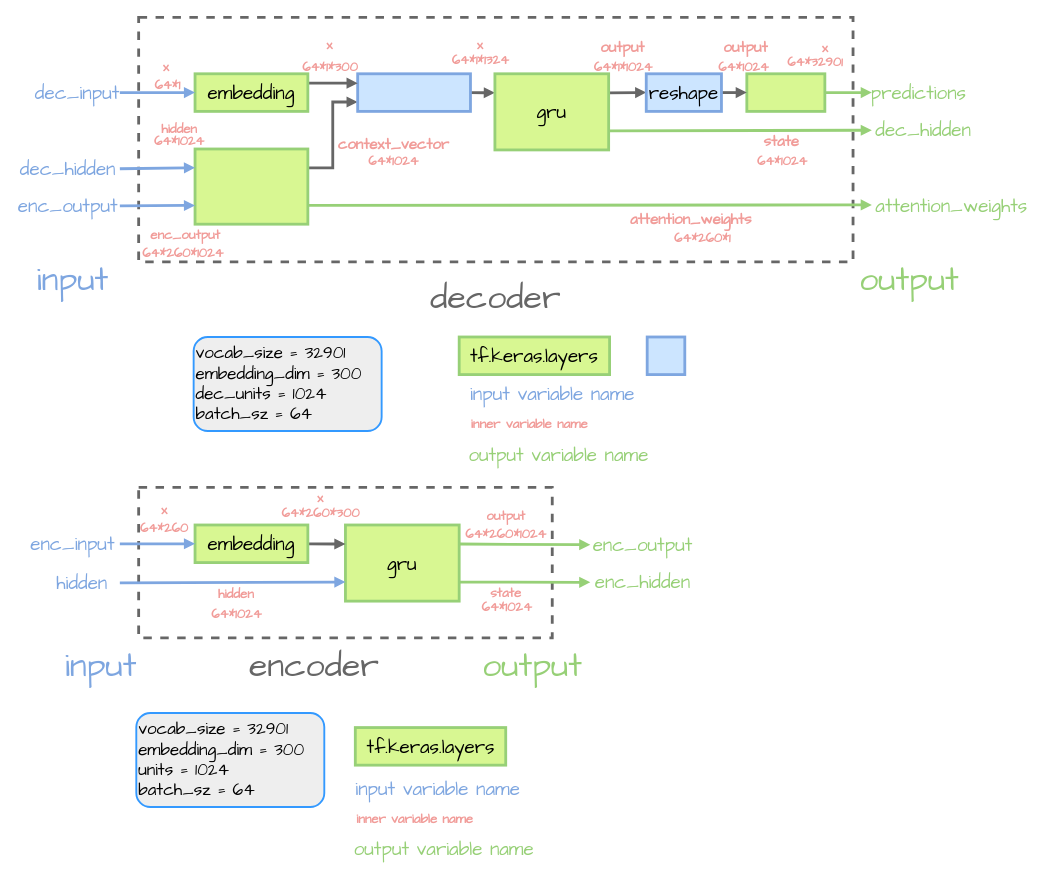
The diagram is 1047 pixels wide and 885 high, and some of its shapes have lost their labels. Here are the shapes that lost their labels. From the top down, the box of each, then its label:
(356, 72, 471, 112): concat
(745, 72, 826, 112): fc
(193, 147, 309, 225): attention
(645, 335, 686, 376): op
